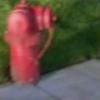a fire hydrant: (1, 0, 60, 91)
